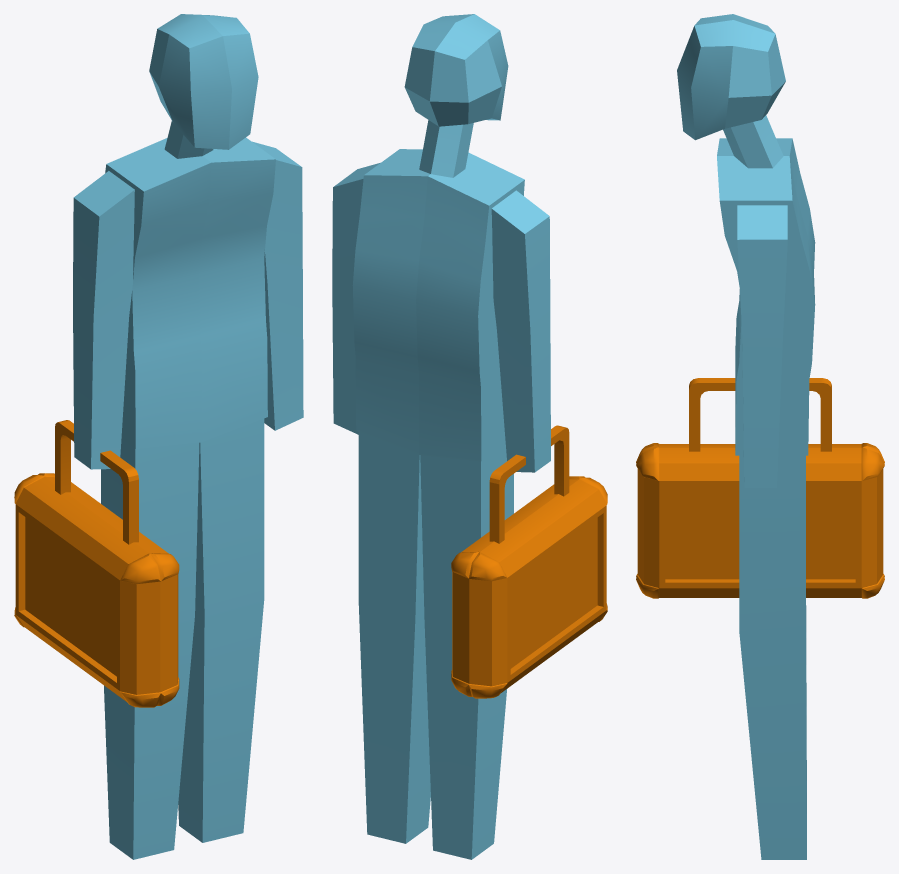
The model's file is man02.glb.
3 renders of one model, left to right at view 1: azimuth 30°, elevation 25°; view 2: azimuth 150°, elevation 25°; view 3: azimuth 270°, elevation 25°, orthographic. The views are drawn at different scales.
Parts seen in each view (by area): view 1: man02_col; view 2: man02_col; view 3: man02_col.
Part boxes in pixels (<box>): man02_col: <box>14,14,303,859</box>; man02_col: <box>332,14,607,859</box>; man02_col: <box>636,14,884,859</box>.
Size of the model in its own units: 3.45 by 12.18 by 3.37.
